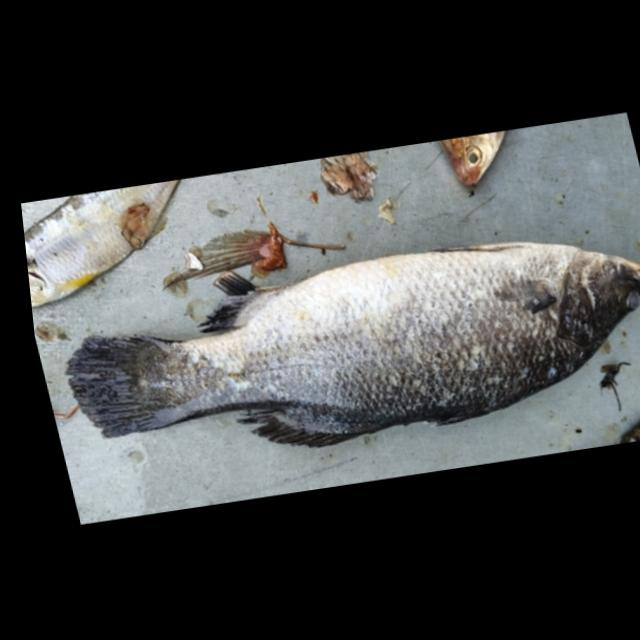Seabass: (40, 218, 640, 484)
